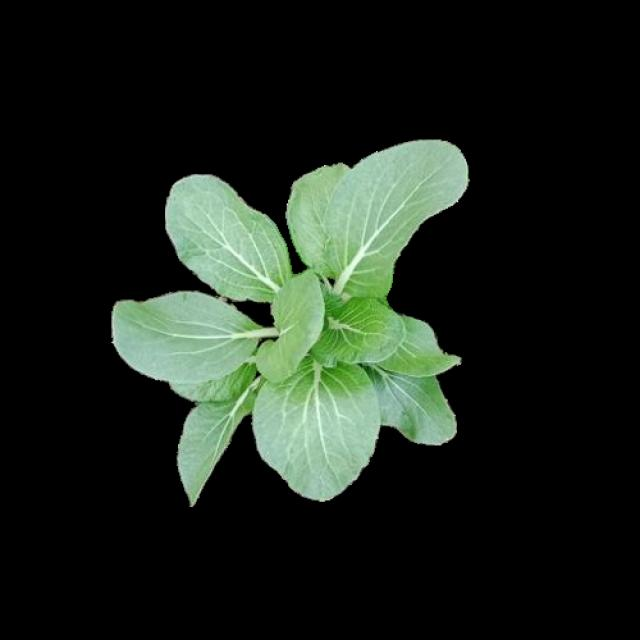healthy: (108, 138, 467, 500)
not-mature: (111, 141, 470, 503)
